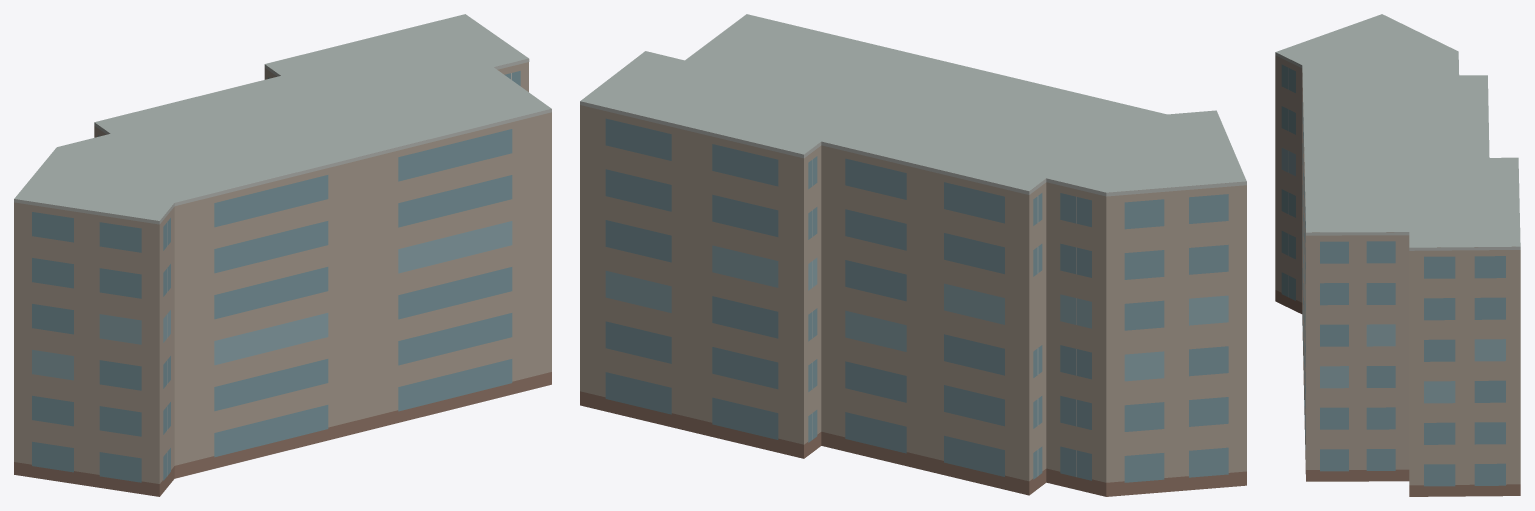
Rendered from survey-upis-33007181.glb.
3 views of the same model, side by side, from view 1: azimuth 30°, elevation 25°; view 2: azimuth 150°, elevation 25°; view 3: azimuth 270°, elevation 25° (orthographic). The views are drawn at different scales.
Parts seen in each view (by area): view 1: survey-upis-33007181.tmp; view 2: survey-upis-33007181.tmp; view 3: survey-upis-33007181.tmp.
Boxes of the visible parts, x1,y1,x2,y2 form: survey-upis-33007181.tmp: [14, 14, 551, 496]; survey-upis-33007181.tmp: [580, 14, 1246, 496]; survey-upis-33007181.tmp: [1275, 14, 1520, 496].
Bounding box in the file's own units: 38.83 × 19.3 × 17.22.
